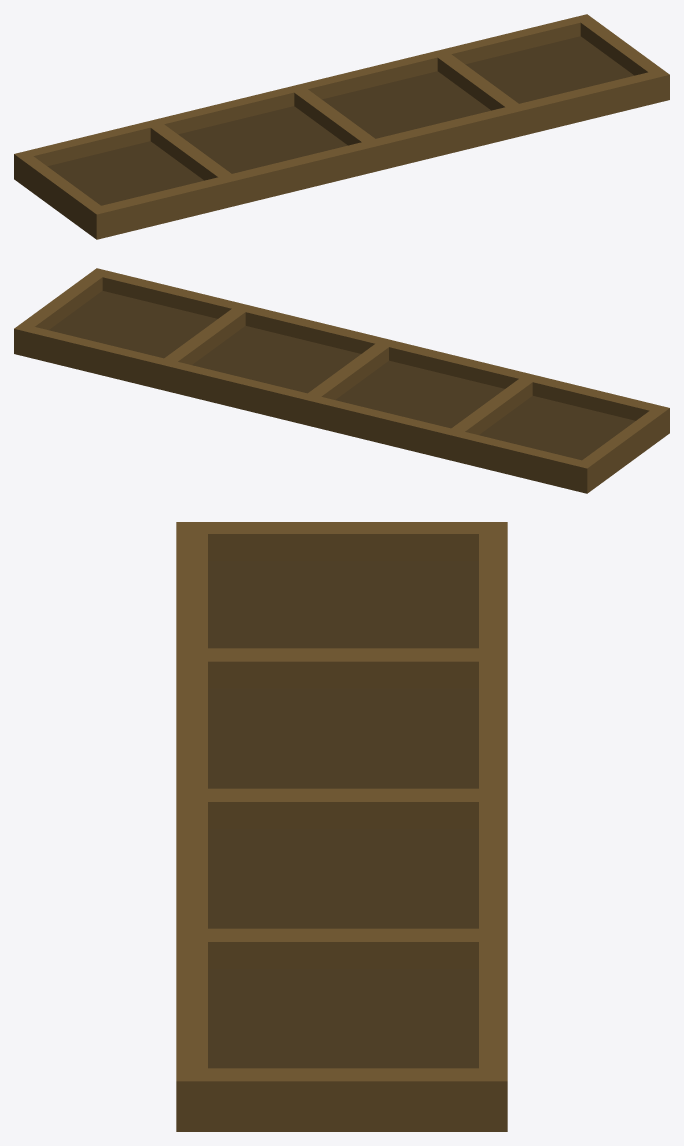
File: ekimalani.fbx
3 views of the same model, one above another, from view 1: azimuth 30°, elevation 25°; view 2: azimuth 150°, elevation 25°; view 3: azimuth 270°, elevation 25° (orthographic). The views are drawn at different scales.
Parts seen in each view (by area): view 1: Cube.206; view 2: Cube.206; view 3: Cube.206.
Part boxes in pixels (x1,y1,x2,y2): Cube.206: (14, 14, 669, 239); Cube.206: (14, 268, 669, 493); Cube.206: (176, 522, 507, 1131).
Size of the model in its own units: 498 by 20.97 by 125.
